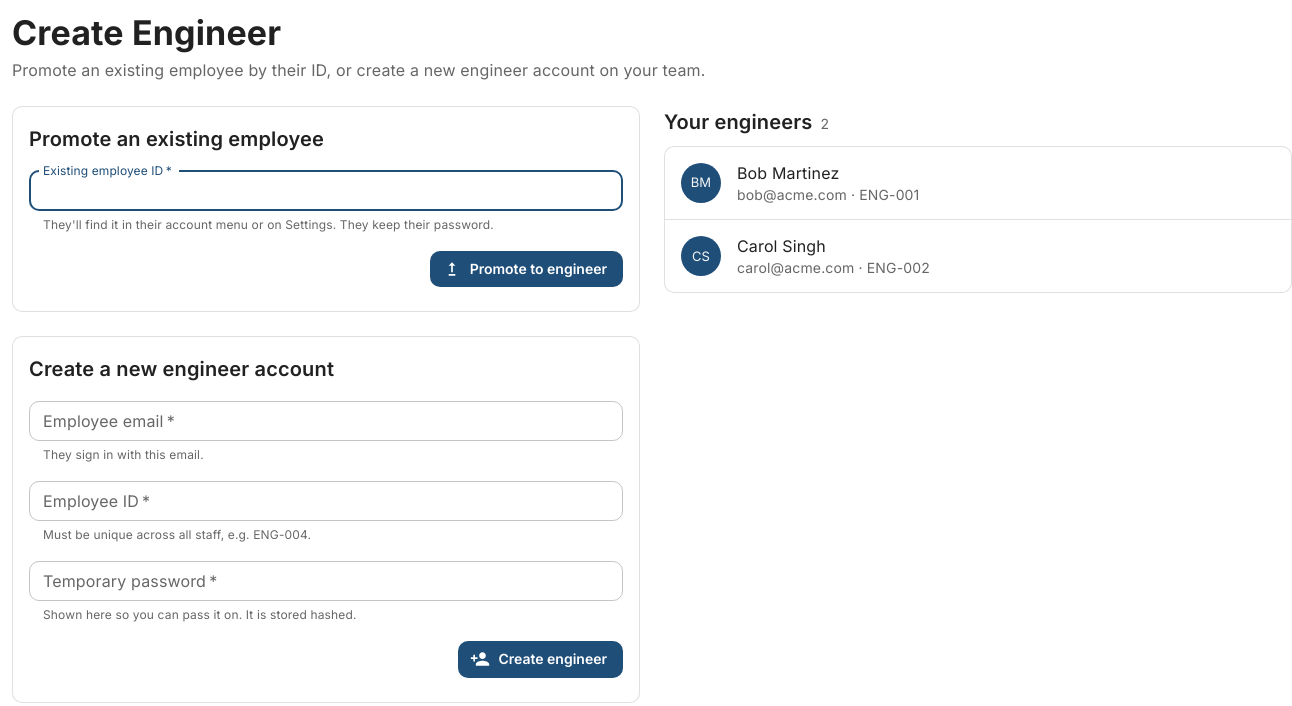
Scenario: CreateEngineerPage against the real backend › creates the engineer on the admin’s team, then clears the form and reloads the list
Check: the text "Bob Martinez" is shown, box [737,163,839,183]
Type "new.eng@acme.inc" into the field labelled "Employee email *".
click(326, 421); type("new.eng@acme.inc")  # box [29,401,623,441]
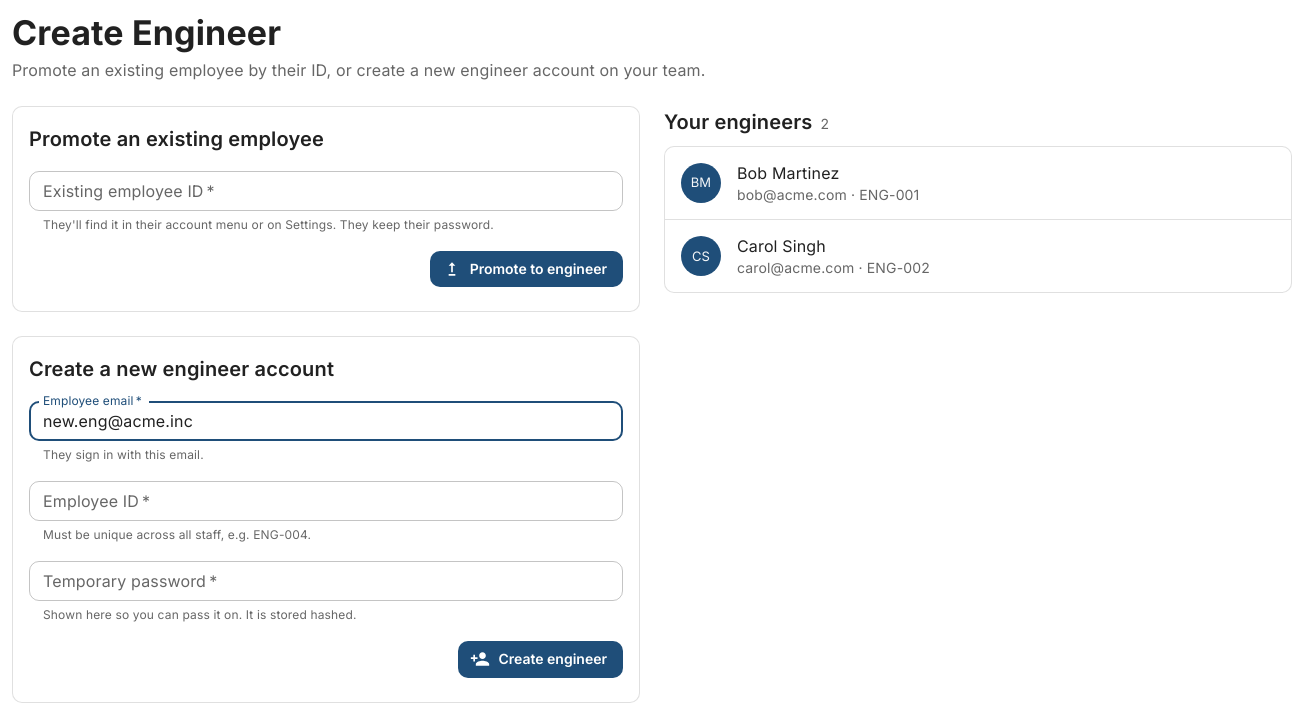
Type "ENG-004" into the field labelled "Employee ID *".
click(326, 501); type("ENG-004")  # box [29,481,623,521]
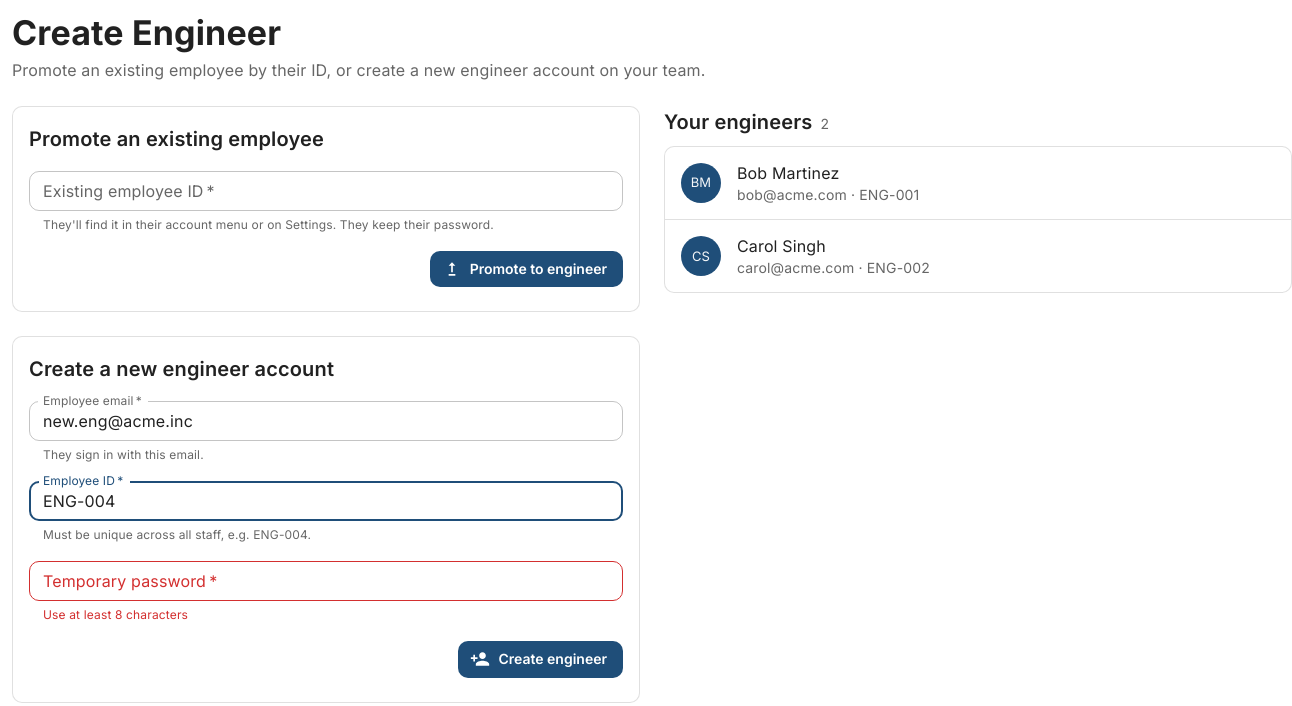
Type "temp-pass-1" into the field labelled "Temporary password *".
click(326, 581); type("temp-pass-1")  # box [29,561,623,601]
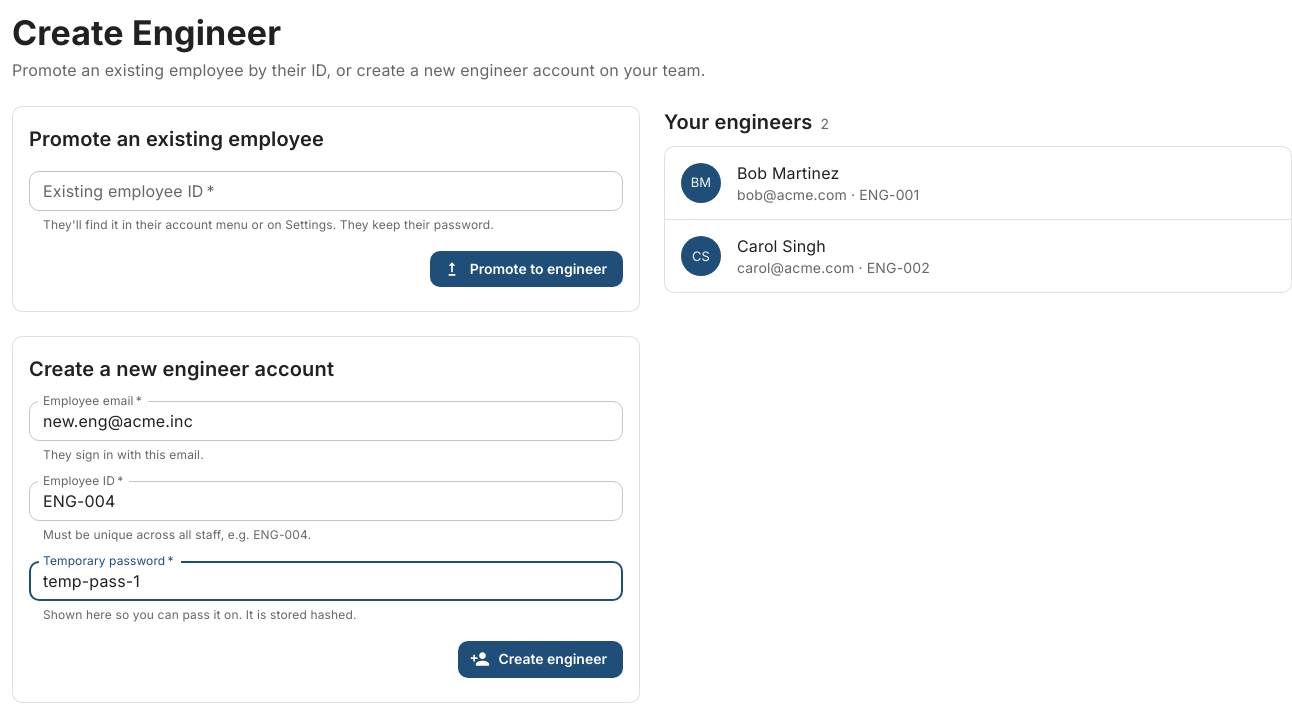
Click the button "Create engineer".
click(541, 659)  # box [458,641,623,678]
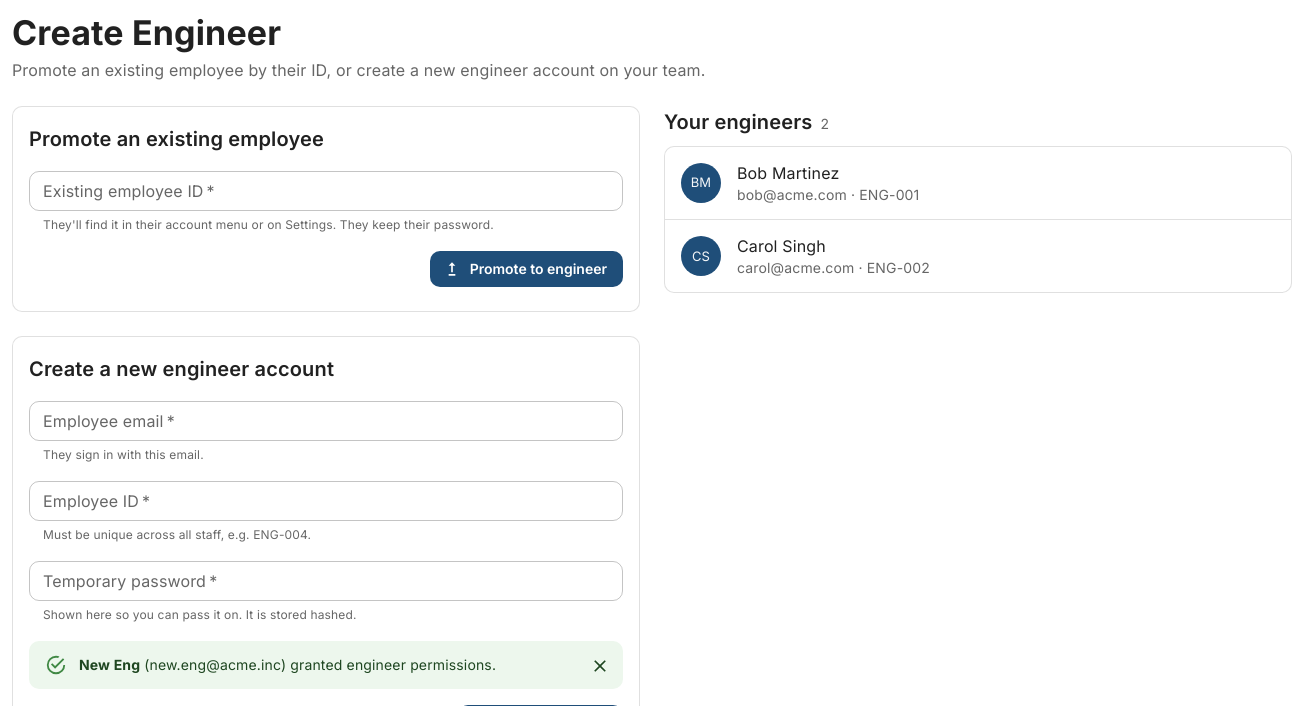
Check: the text "New Eng (new.eng@acme.inc) granted engineer permissions." is shown, box [79,656,496,673]
Check: the field labelled "Employee email *" is empty, box [29,401,623,441]
Check: the field labelled "Employee ID *" is empty, box [29,481,623,521]
